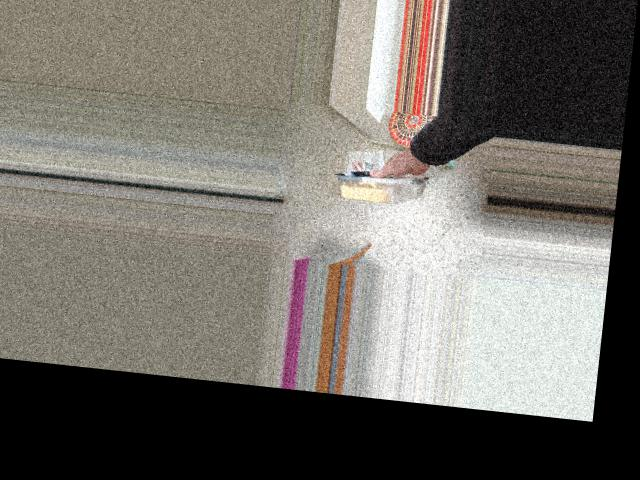cheese: (339, 127, 448, 232)
